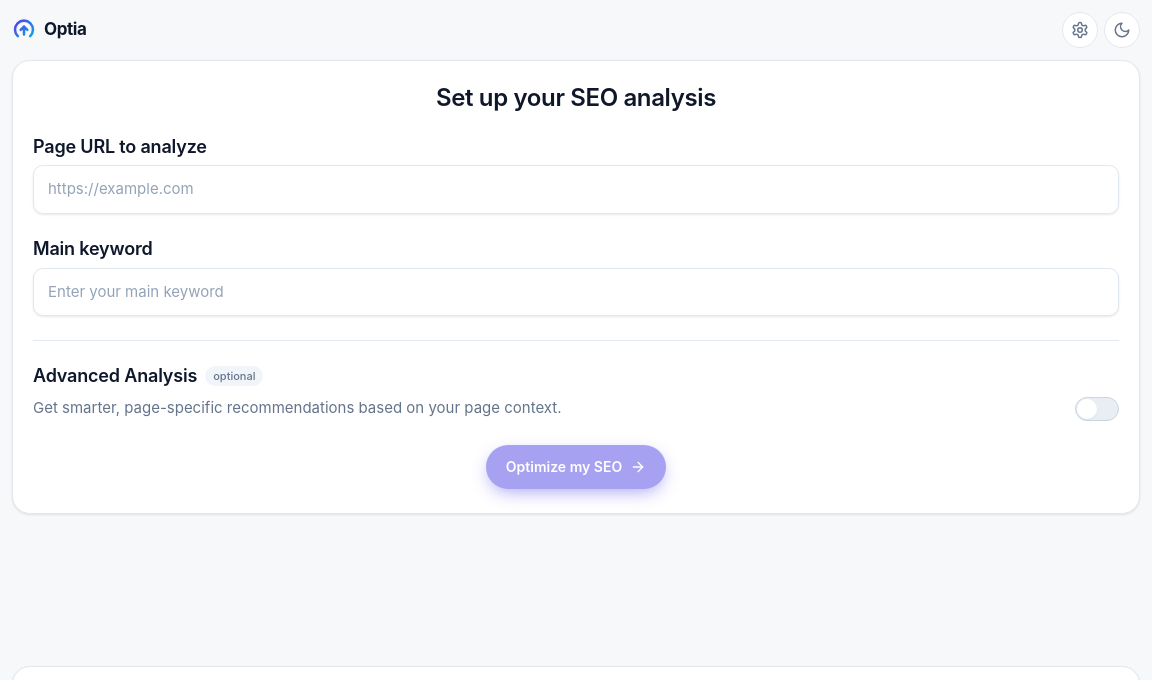
Test case: SetupPage › shows the BYOK toggle for Pro users and persists changes through the store
Click the button named "settings" at [1080, 30], box [1062, 12, 1098, 48]
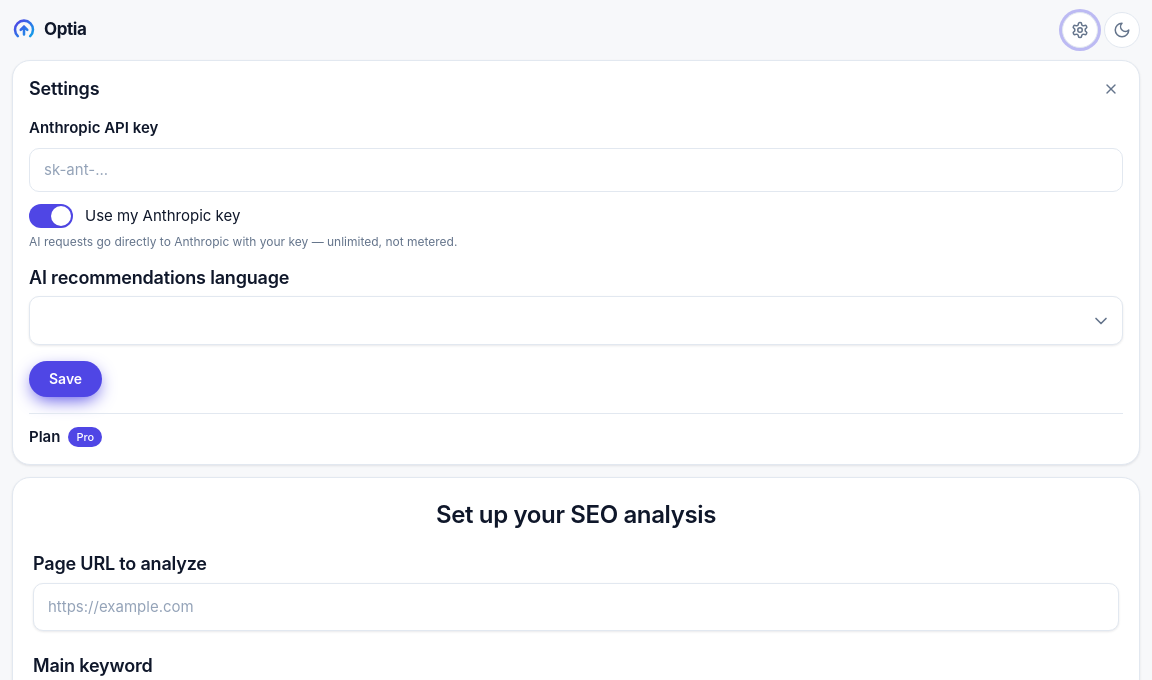
Now the checkbox labelled "Use my Anthropic key" is checked
Click the checkbox labelled "Use my Anthropic key" at [135, 216], box [29, 204, 240, 228]
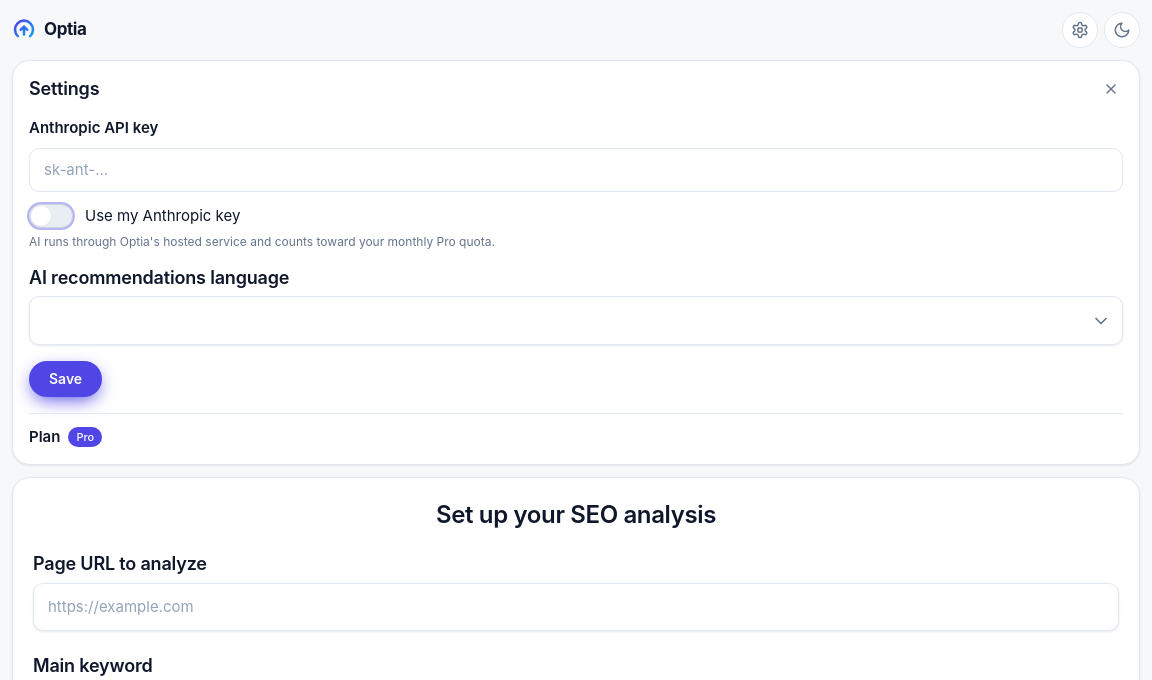
Now the text "counts toward your monthly Pro quota" is shown, box [29, 234, 495, 249]
